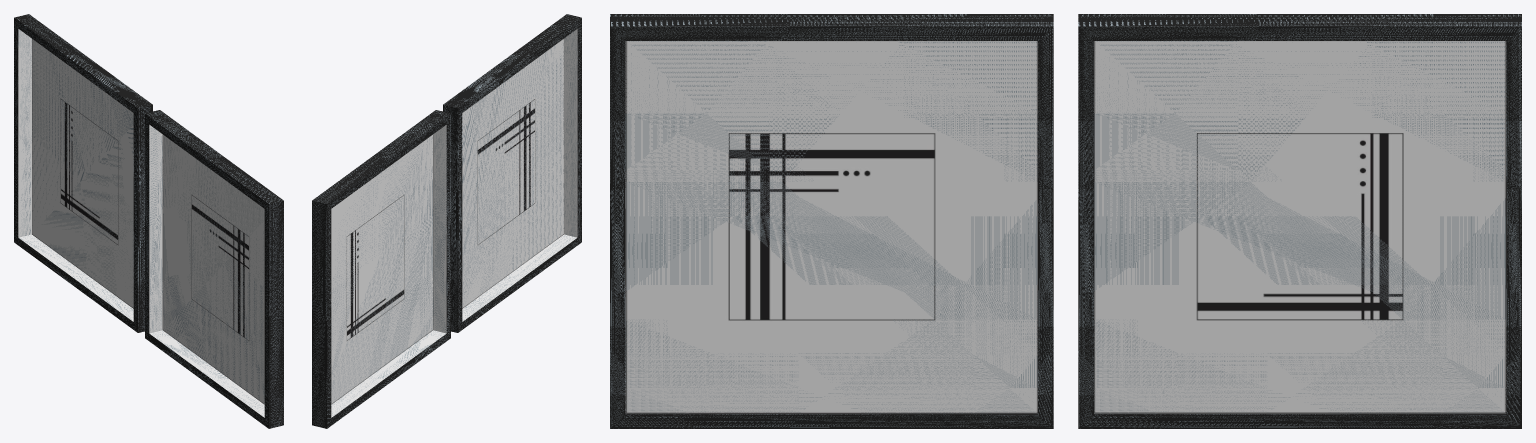
Rendered from art35.dae.
3 views of the same model, side by side, from view 1: azimuth 30°, elevation 25°; view 2: azimuth 150°, elevation 25°; view 3: azimuth 270°, elevation 25° (orthographic). The views are drawn at different scales.
Parts seen in each view (by area): view 1: group_0 (×3), group_1 (×3); view 2: group_1 (×3), group_0 (×3); view 3: group_0 (×2), group_1 (×2).
Part boxes in pixels (x1,y1,x2,y2): group_0 (×3): (145,110,283,428); group_1 (×3): (14,14,152,332); group_1 (×3): (312,110,450,428); group_0 (×3): (443,14,581,332); group_0 (×2): (610,14,1053,428); group_1 (×2): (1078,14,1521,428).
Bounding box in the file's own units: 1.18 × 34.8 × 16.93.
Materials: 5 (2 with a texture image).
